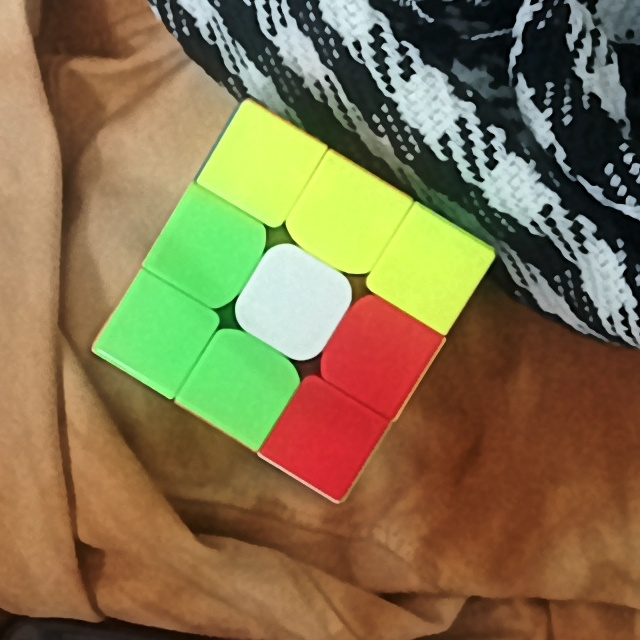tile: (348, 311, 414, 388), (259, 265, 327, 336), (175, 215, 248, 280), (205, 352, 276, 417), (399, 234, 466, 301), (293, 401, 358, 470), (314, 183, 380, 250), (126, 300, 193, 366), (226, 134, 295, 198)
